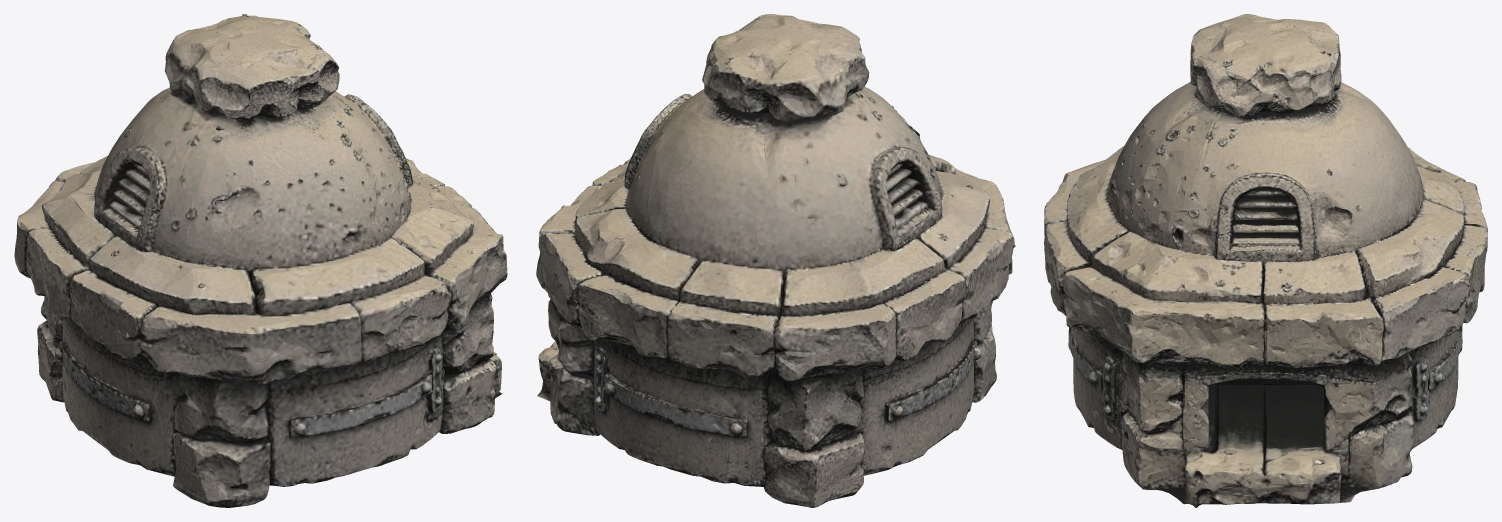
File: kiln.glb
3 renders of one model, left to right at view 1: azimuth 30°, elevation 25°; view 2: azimuth 150°, elevation 25°; view 3: azimuth 270°, elevation 25°, orthographic. The views are drawn at different scales.
Visible parts, largest first — view 1: tripo_node_565b8f65-1834-4525-b2b6-85713e029be0; view 2: tripo_node_565b8f65-1834-4525-b2b6-85713e029be0; view 3: tripo_node_565b8f65-1834-4525-b2b6-85713e029be0.
Boxes of the visible parts, bbox=[...] form: tripo_node_565b8f65-1834-4525-b2b6-85713e029be0: bbox=[14, 14, 507, 507]; tripo_node_565b8f65-1834-4525-b2b6-85713e029be0: bbox=[536, 14, 1015, 507]; tripo_node_565b8f65-1834-4525-b2b6-85713e029be0: bbox=[1044, 14, 1487, 507].
Size of the model in its own units: 0.9819 by 0.8926 by 0.9604.
Materials: 1 (1 with a texture image).
